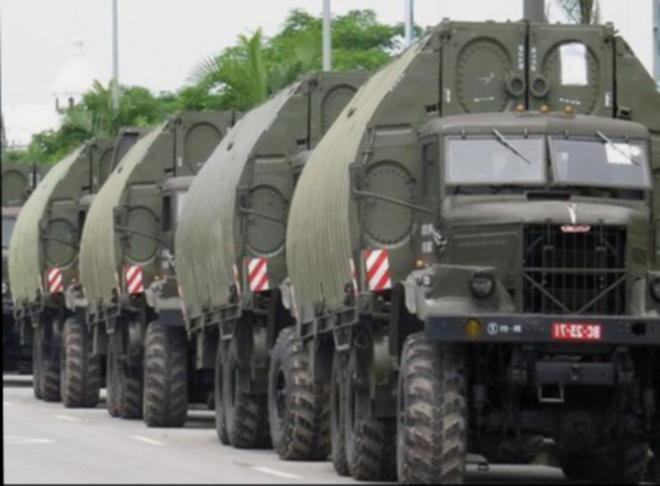License_Plate: (549, 324, 603, 339)
